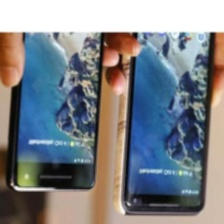phone: (110, 5, 219, 219), (2, 0, 109, 195)
